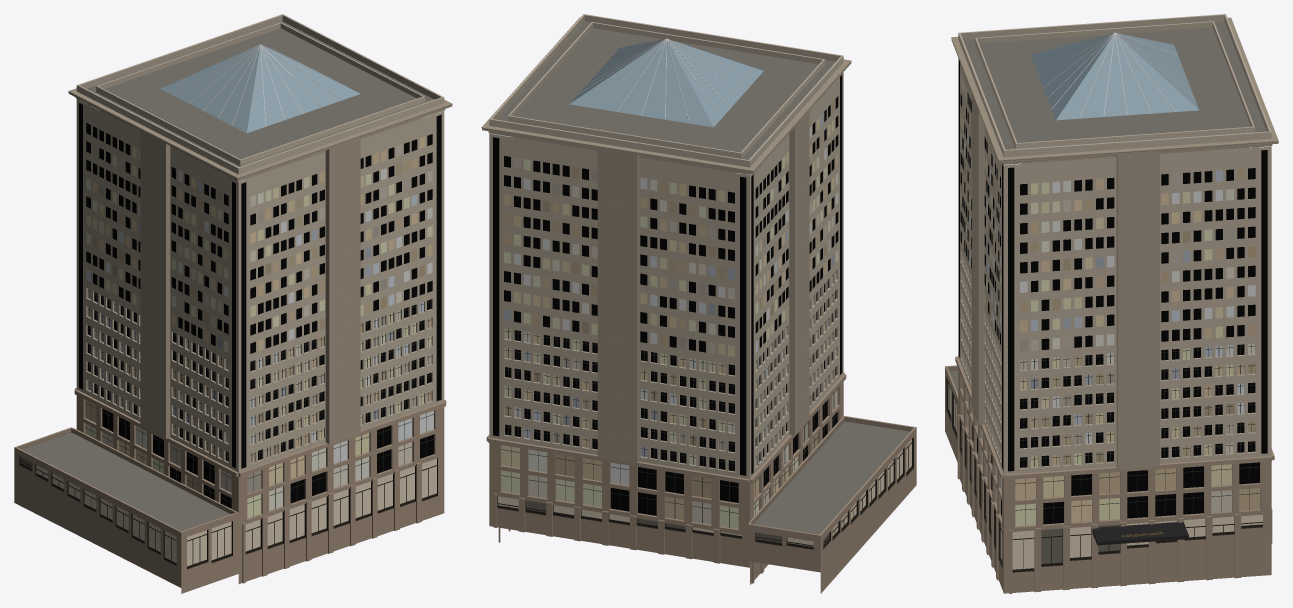
The model's file is jwMarriott_lod0.glb.
3 views of the same model, side by side, from view 1: azimuth 30°, elevation 25°; view 2: azimuth 150°, elevation 25°; view 3: azimuth 270°, elevation 25° (orthographic). The views are drawn at different scales.
Visible parts, largest first — view 1: L0_concrete, L0_win, L0_granite, L0_roof, L0_glassc, L0_metal, L0_shop; view 2: L0_concrete, L0_win, L0_granite, L0_roof, L0_glassc, L0_metal, L0_shop; view 3: L0_concrete, L0_win, L0_granite, L0_roof, L0_glassc, L0_metal, L0_shop.
Boxes of the visible parts, box(x1,y1,x2,y2) form: L0_concrete: box(68, 14, 452, 472); L0_win: box(79, 103, 441, 518); L0_granite: box(14, 388, 446, 593); L0_roof: box(22, 21, 433, 531); L0_glassc: box(160, 46, 360, 133); L0_metal: box(19, 44, 437, 569); L0_shop: box(20, 457, 436, 566); L0_concrete: box(481, 14, 851, 479); L0_win: box(493, 75, 842, 528); L0_granite: box(486, 372, 916, 593); L0_roof: box(497, 21, 909, 534); L0_glassc: box(569, 39, 763, 127); L0_metal: box(497, 38, 913, 549); L0_shop: box(498, 439, 911, 546); L0_concrete: box(951, 14, 1278, 474); L0_win: box(959, 60, 1267, 526); L0_granite: box(945, 355, 1274, 593); L0_roof: box(949, 21, 1266, 393); L0_glassc: box(1031, 33, 1198, 120); L0_metal: box(946, 32, 1262, 572); L0_shop: box(948, 384, 1262, 569).
Size of the model in its own units: 63.63 by 82.03 by 50.33.
